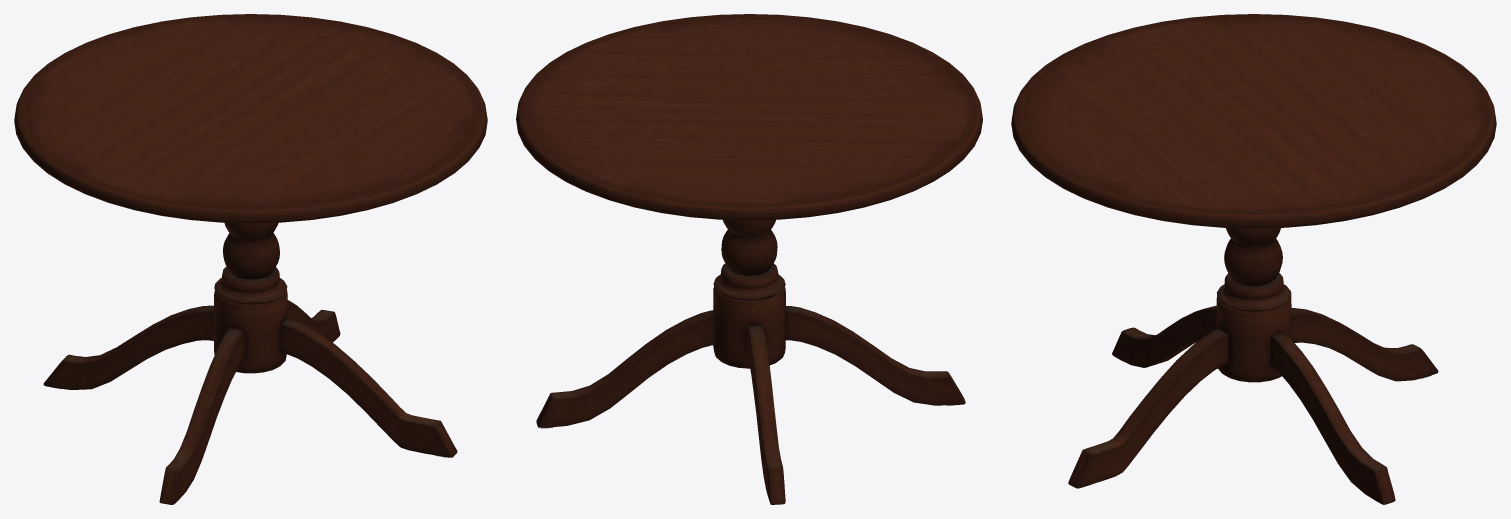
The model's file is table_round.glb.
3 views of the same model, side by side, from view 1: azimuth 30°, elevation 25°; view 2: azimuth 150°, elevation 25°; view 3: azimuth 270°, elevation 25° (orthographic). The views are drawn at different scales.
Parts seen in each view (by area): view 1: mesh; view 2: mesh; view 3: mesh.
Boxes of the visible parts, x1=… form: mesh: x1=14, y1=14, x2=487, y2=504; mesh: x1=516, y1=14, x2=982, y2=504; mesh: x1=1011, y1=14, x2=1496, y2=504.
Bounding box in the file's own units: 1.4 × 1 × 1.4.
1 material, 1 textured.
